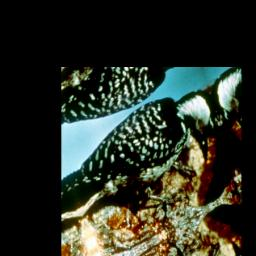Woodpecker: (62, 69, 238, 256)
